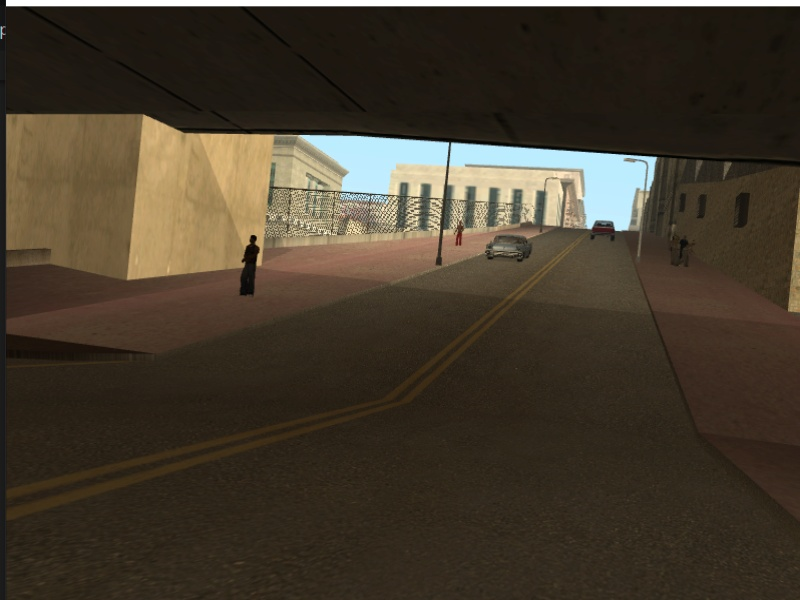person: (238, 230, 261, 301), (452, 219, 465, 247), (671, 235, 681, 264)
pole: (431, 142, 454, 267), (636, 159, 650, 261)
vehicle: (486, 232, 534, 263), (590, 218, 616, 241)
